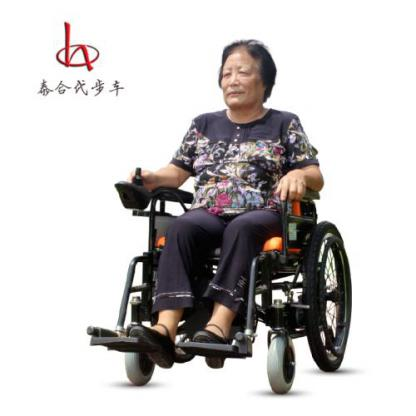wheelchair: (93, 35, 354, 393)
